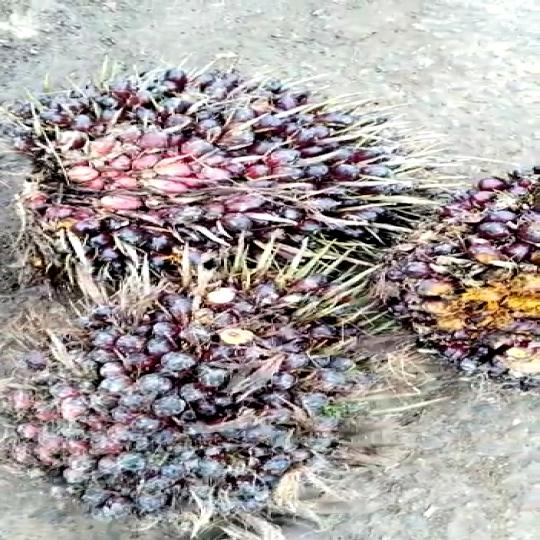kurang masak: (19, 258, 371, 540), (0, 68, 419, 278), (352, 171, 540, 399)
